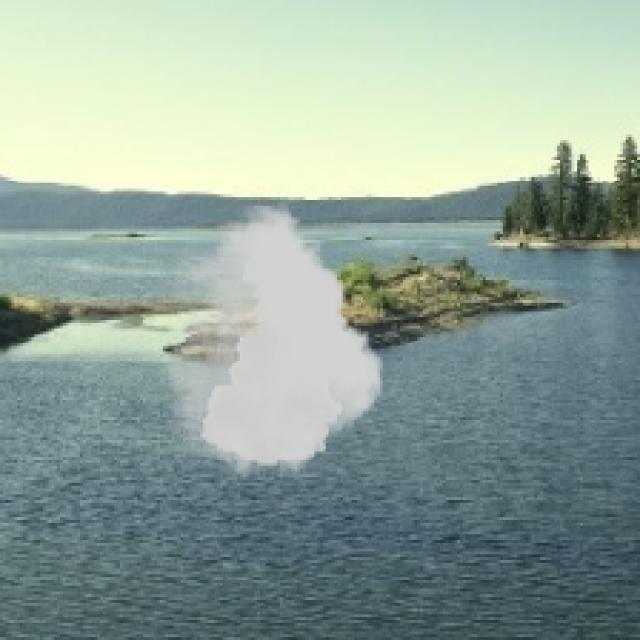smoke: (168, 206, 383, 477)
